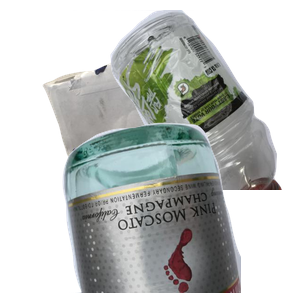glass: (60, 120, 300, 300)
paper: (40, 35, 249, 187)
plastic: (73, 10, 300, 190)
trash: (96, 145, 295, 300)
